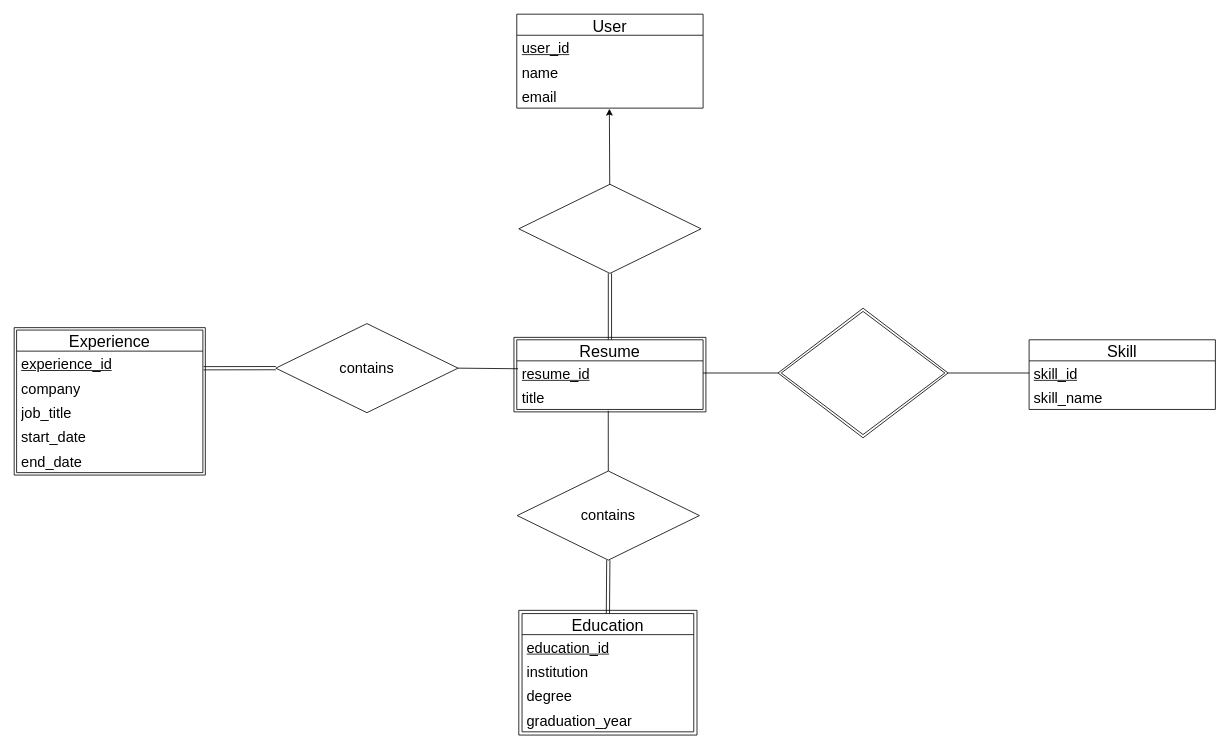
Image size: 1230x749. Some labels were removed from this diagram. Here are the shapes that lost their labels. From the top down, the box of each, then its label:
(518, 183, 701, 273): creates
(777, 307, 948, 438): Resume_Skill
